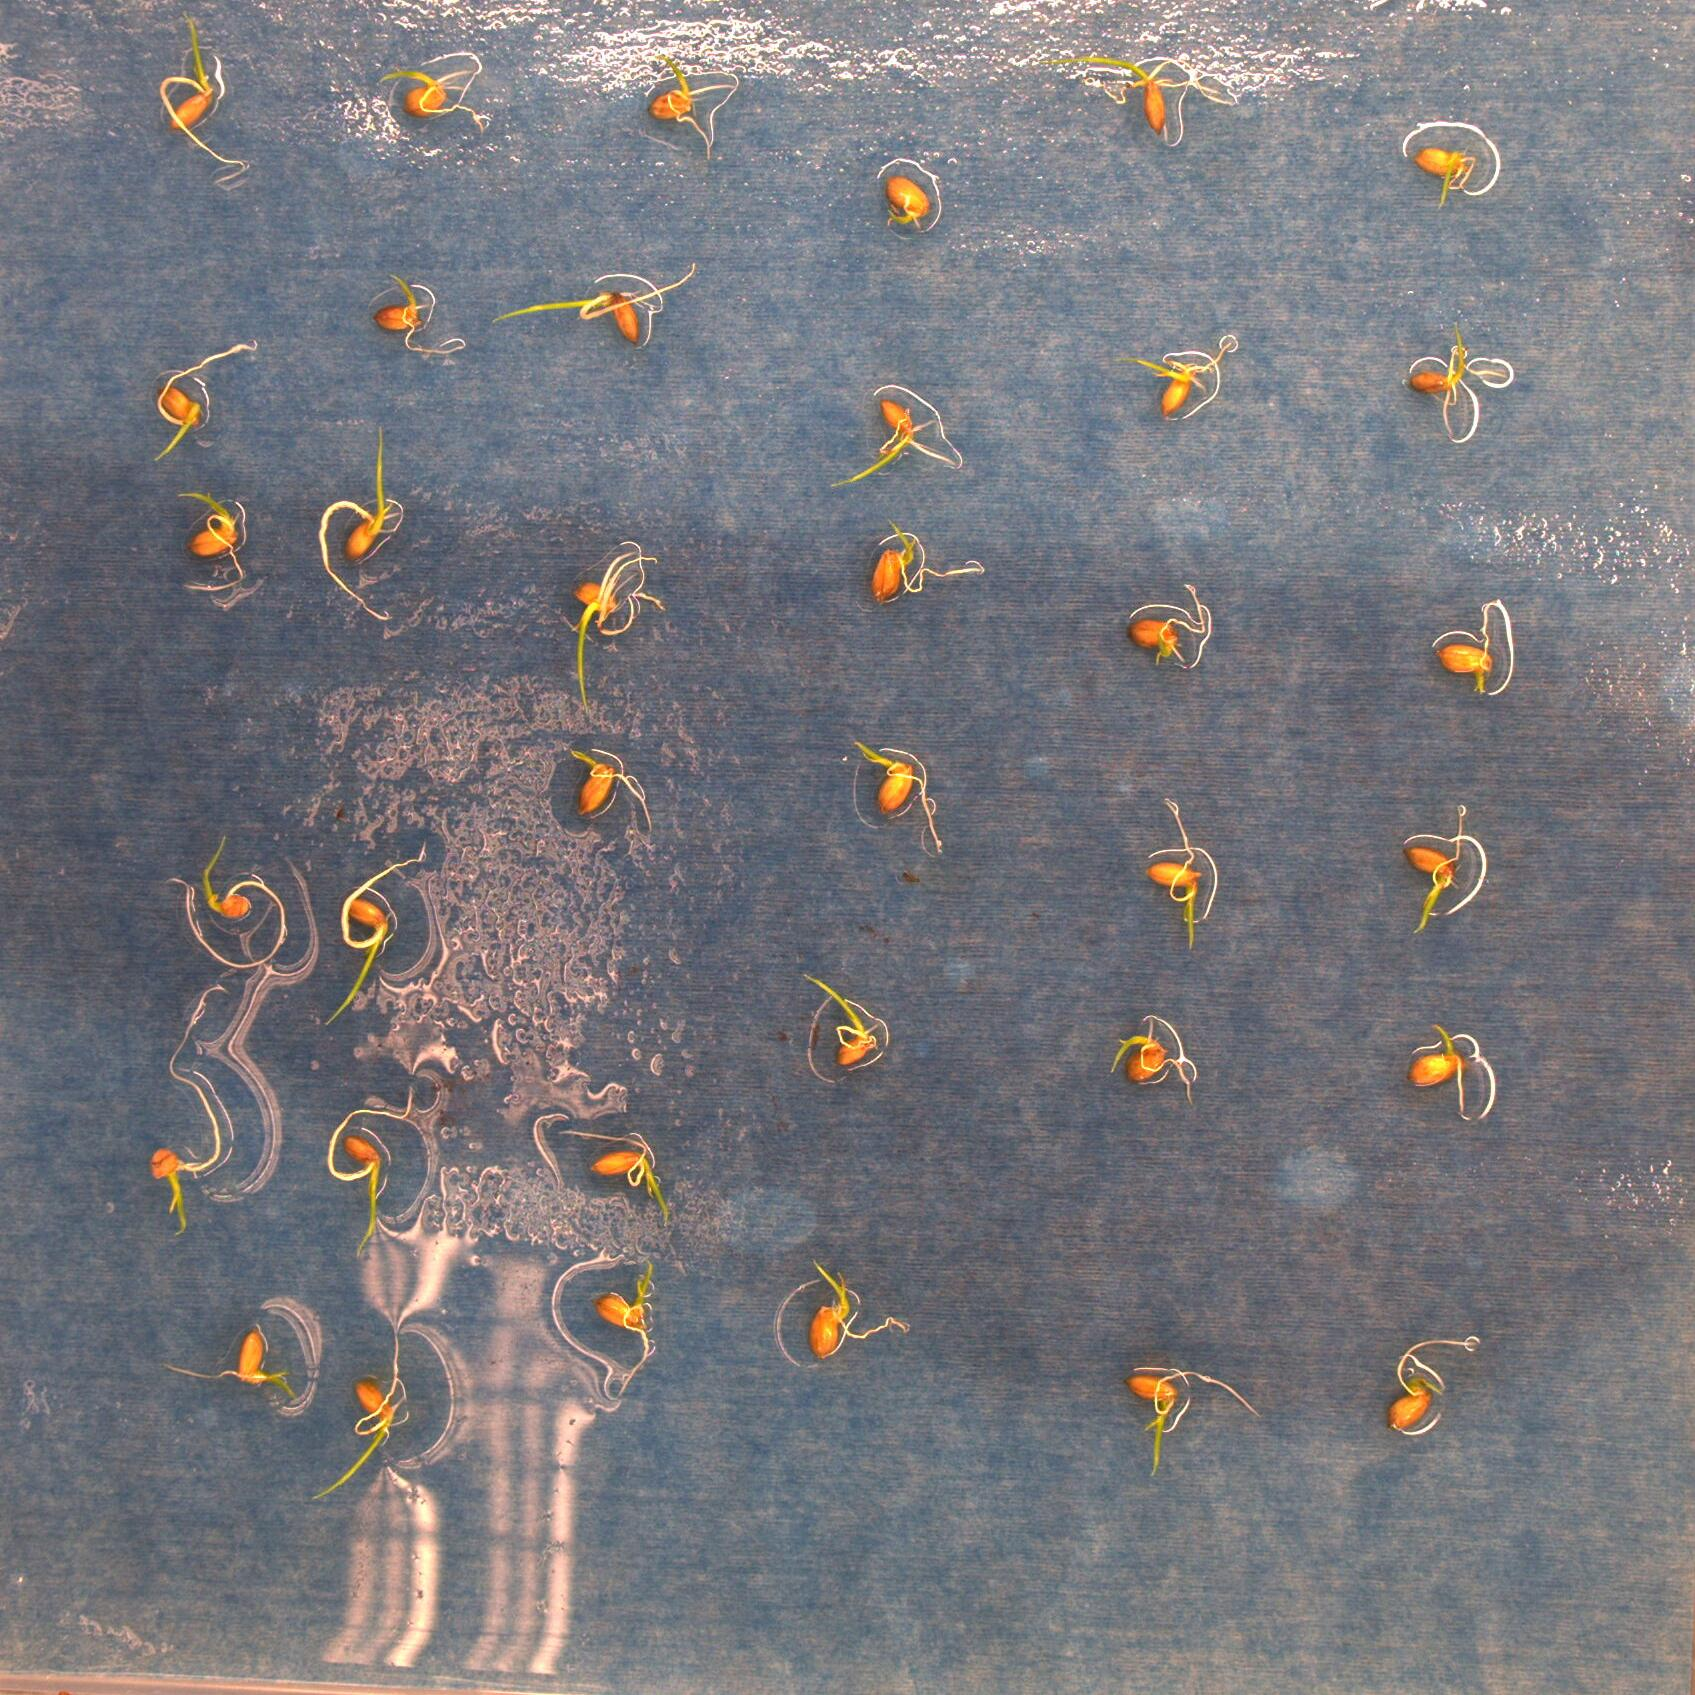not sprout: (365, 272, 455, 376), (1144, 343, 1226, 442), (1411, 132, 1485, 203), (875, 168, 947, 236)
sprout: (318, 411, 424, 657), (151, 981, 250, 1234), (522, 265, 745, 369), (329, 1083, 436, 1268), (324, 849, 424, 1028), (567, 542, 664, 719), (570, 1091, 688, 1229), (154, 20, 253, 183), (154, 328, 261, 473), (1133, 1357, 1257, 1478), (326, 1327, 411, 1496), (1077, 50, 1222, 149), (846, 730, 947, 860), (1138, 798, 1226, 944), (860, 503, 973, 615), (393, 39, 497, 160), (784, 1257, 908, 1357), (633, 68, 744, 172), (590, 1260, 671, 1399), (1388, 1340, 1481, 1458), (185, 467, 261, 612), (801, 969, 889, 1091), (1402, 809, 1485, 933), (1122, 594, 1218, 698), (1400, 340, 1496, 438), (863, 383, 944, 497), (191, 852, 290, 944), (171, 1322, 309, 1385), (1118, 1007, 1200, 1108), (1403, 1031, 1496, 1110), (567, 740, 649, 826), (1434, 605, 1507, 692)
